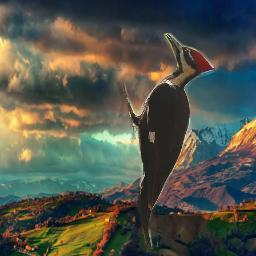Woodpecker: (116, 33, 214, 249)
